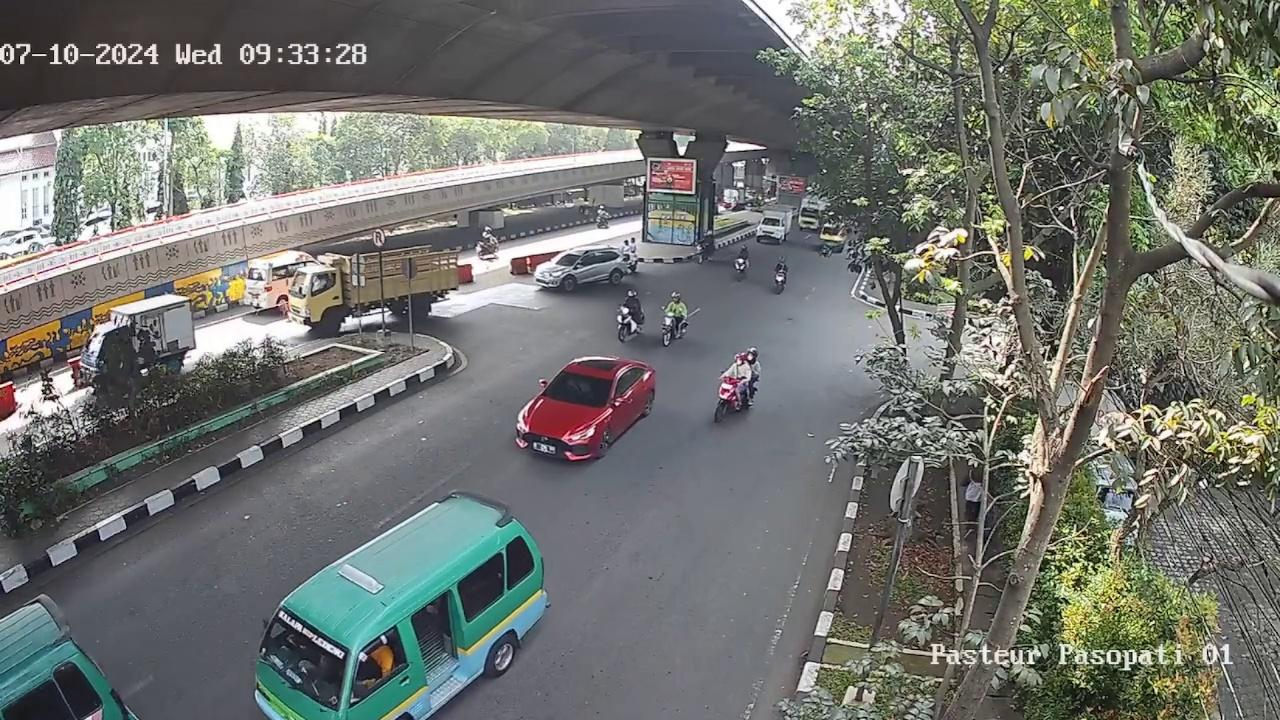pakai: (565, 377, 592, 398)
windshield: (257, 605, 352, 711), (537, 367, 614, 410)
